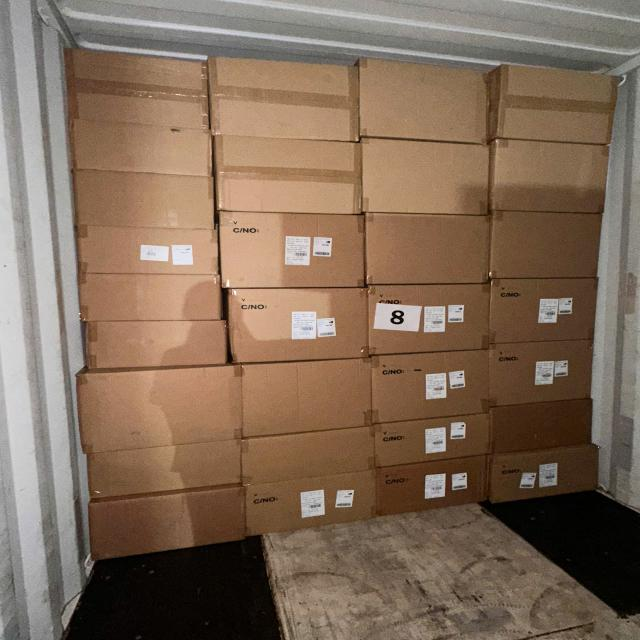Carton: (78, 367, 245, 452), (210, 56, 362, 145), (61, 44, 212, 133), (212, 134, 365, 215), (239, 353, 376, 443), (84, 488, 244, 565), (216, 209, 368, 289), (362, 58, 491, 148), (491, 60, 620, 145), (230, 284, 369, 362), (239, 466, 381, 539), (76, 436, 240, 498), (364, 136, 491, 215), (364, 214, 494, 288), (65, 114, 214, 178), (71, 168, 217, 230), (493, 137, 612, 213), (241, 421, 378, 487), (368, 280, 493, 351), (371, 346, 491, 418), (372, 450, 494, 518), (81, 318, 228, 374), (74, 222, 220, 278), (492, 214, 608, 284), (78, 270, 225, 324), (491, 280, 602, 346), (488, 444, 602, 506), (490, 339, 598, 404), (374, 414, 494, 464), (492, 398, 598, 452)
